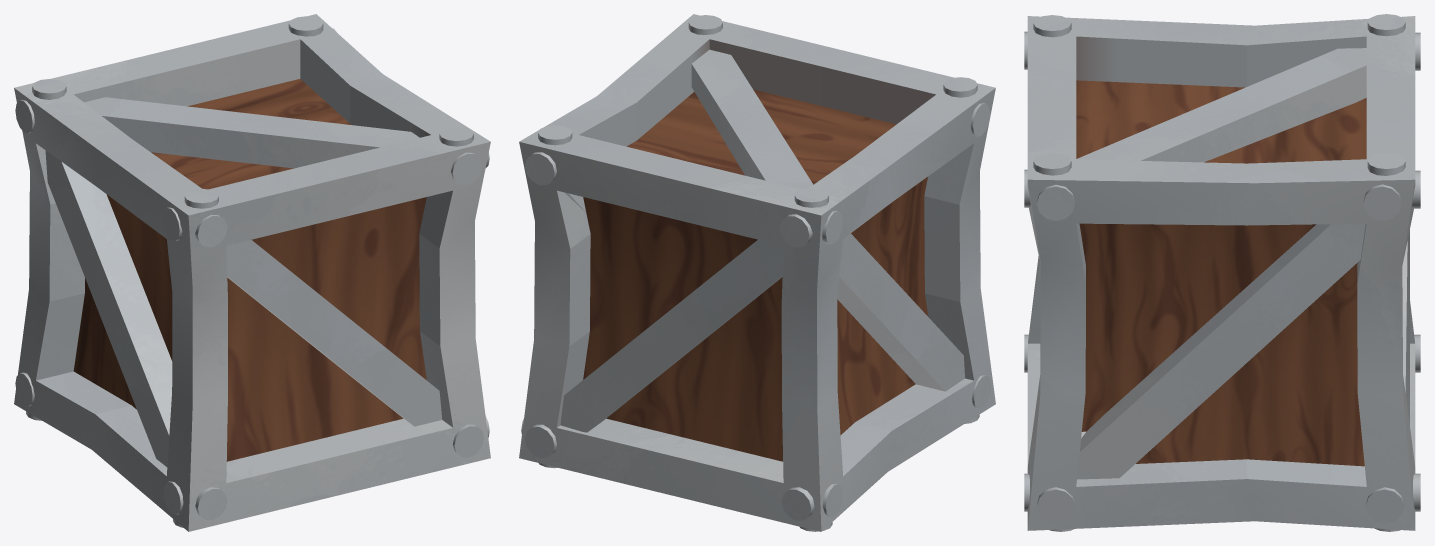
3 renders of one model, left to right at view 1: azimuth 30°, elevation 25°; view 2: azimuth 150°, elevation 25°; view 3: azimuth 270°, elevation 25°, orthographic. The views are drawn at different scales.
Parts seen in each view (by area): view 1: SM_Box; view 2: SM_Box; view 3: SM_Box.
Boxes of the visible parts, <box> form: SM_Box: <box>14,14,490,531</box>; SM_Box: <box>519,14,995,531</box>; SM_Box: <box>1024,14,1420,531</box>.
Size of the model in its own units: 81.17 by 82.75 by 81.9.
